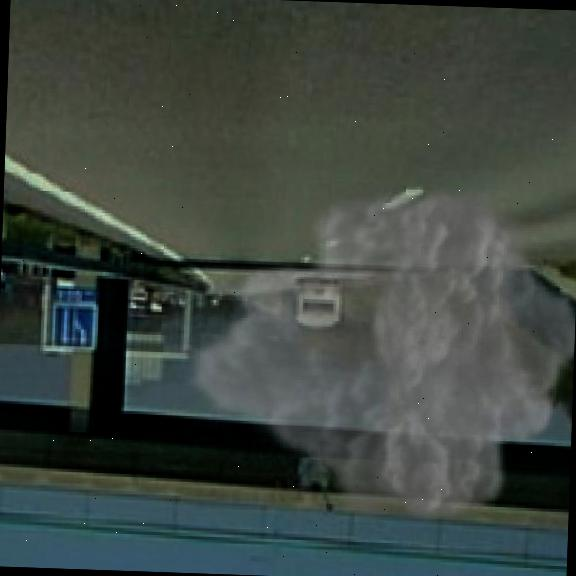smoke: (177, 169, 576, 535)
